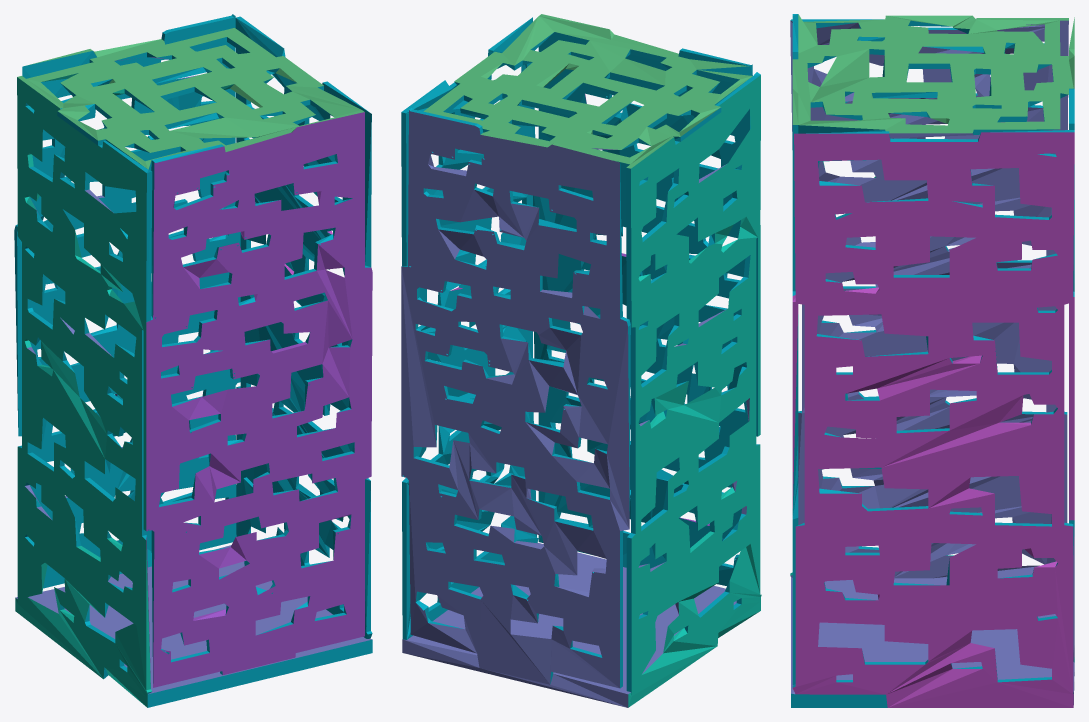
Rendered from lampe-01.glb.
3 views of the same model, side by side, from view 1: azimuth 30°, elevation 25°; view 2: azimuth 150°, elevation 25°; view 3: azimuth 270°, elevation 25° (orthographic). The views are drawn at different scales.
Size of the model in its own units: 0.0485 by 0.1098 by 0.0485.
